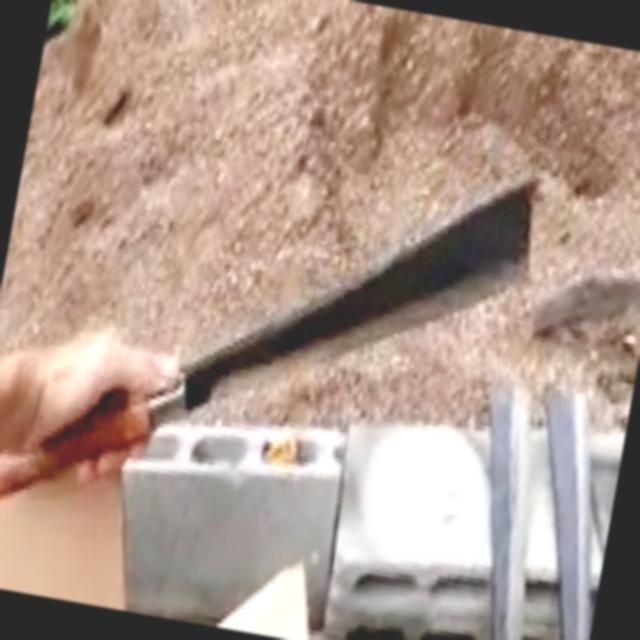eto: (0, 172, 535, 497)
